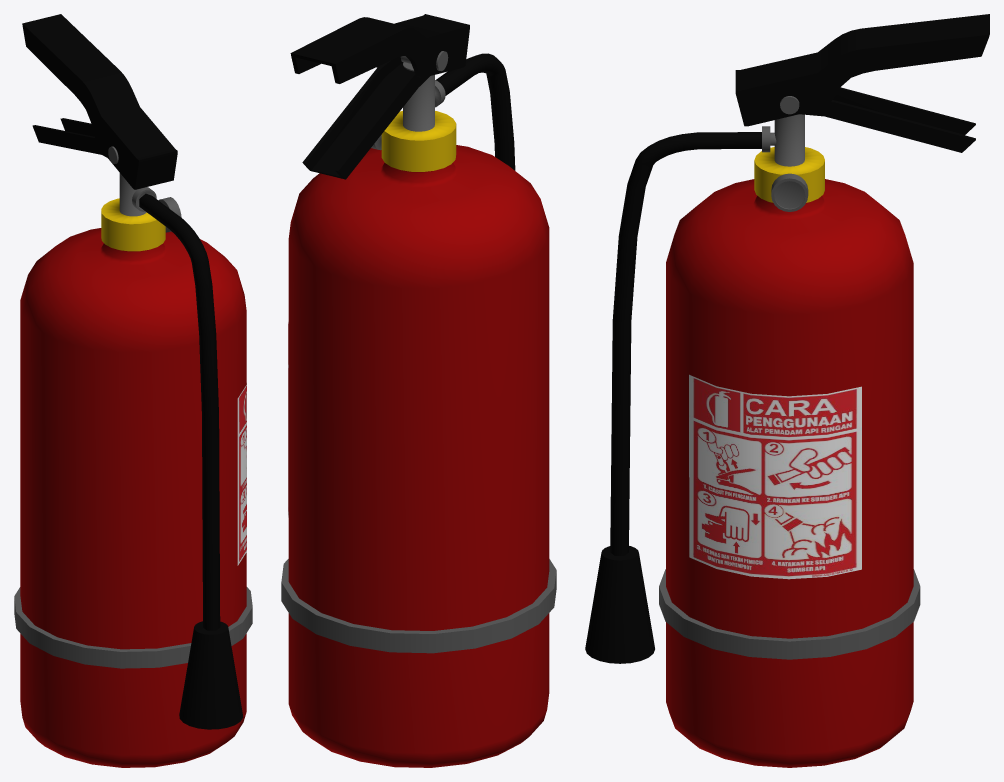
Rendered from Apar.fbx.
The picture shows the model from 3 angles, left to right: view 1: azimuth 30°, elevation 25°; view 2: azimuth 150°, elevation 25°; view 3: azimuth 270°, elevation 25°; orthographic projection. The views are drawn at different scales.
Parts seen in each view (by area): view 1: pCylinder1, pCube3, brush2Main, pCylinder6, polySurface1, pCube1; view 2: pCylinder1, pCube3, pCube1, brush2Main; view 3: pCylinder1, polySurface1, pCube3, brush2Main, pCylinder6, pCube1, pCylinder5.
Boxes of the visible parts, x1=… form: pCylinder1: x1=14, y1=173, x2=252, y2=767; pCube3: x1=22, y1=14, x2=177, y2=189; brush2Main: x1=139, y1=193, x2=220, y2=630; pCylinder6: x1=179, y1=621, x2=243, y2=729; polySurface1: x1=237, y1=383, x2=246, y2=565; pCube1: x1=32, y1=118, x2=107, y2=157; pCylinder1: x1=281, y1=62, x2=556, y2=767; pCube3: x1=290, y1=14, x2=469, y2=83; pCube1: x1=302, y1=56, x2=429, y2=179; brush2Main: x1=436, y1=53, x2=515, y2=170; pCylinder1: x1=659, y1=114, x2=920, y2=767; polySurface1: x1=689, y1=374, x2=861, y2=579; pCube3: x1=735, y1=14, x2=989, y2=126; brush2Main: x1=610, y1=132, x2=761, y2=555; pCylinder6: x1=585, y1=546, x2=654, y2=663; pCube1: x1=800, y1=87, x2=975, y2=152; pCylinder5: x1=771, y1=173, x2=808, y2=211.
Size of the model in its own units: 2.11 by 6.23 by 3.27.
5 materials, 1 textured.
